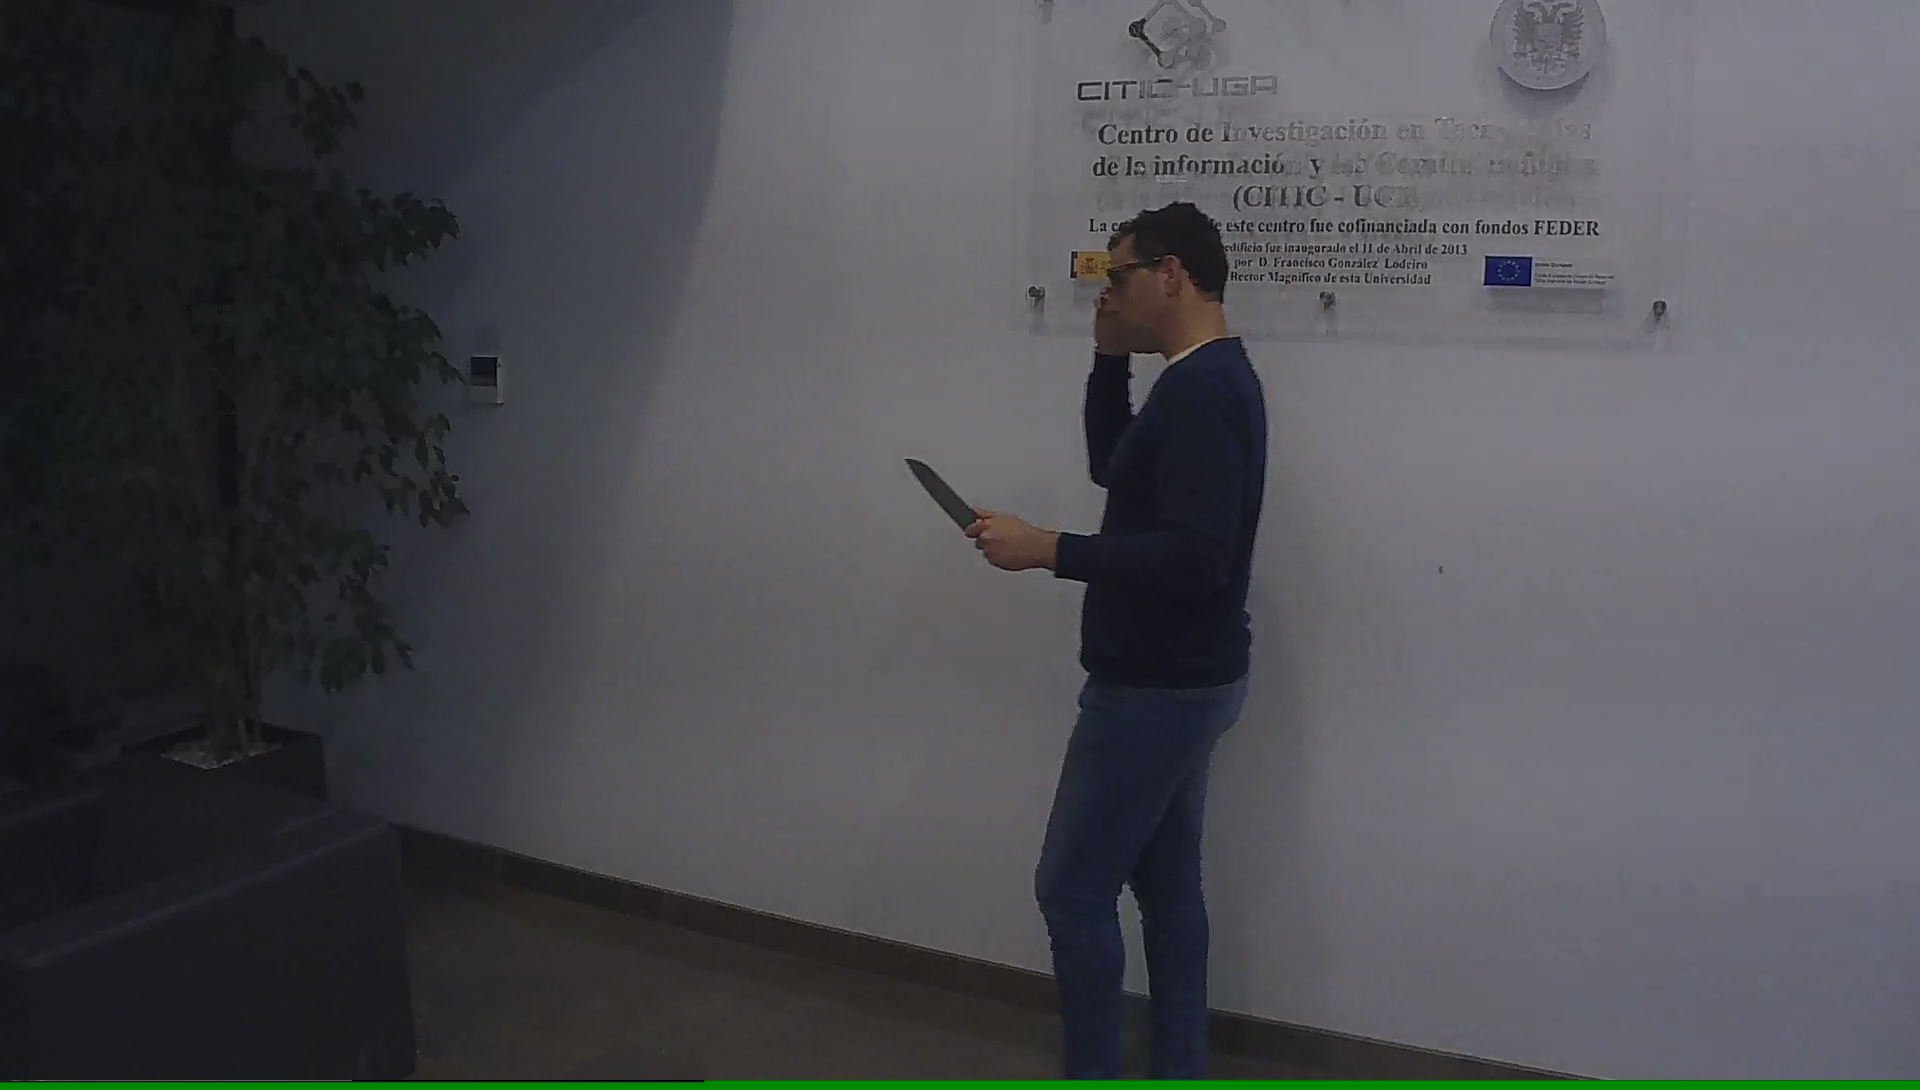knife: (899, 452, 1010, 568)
